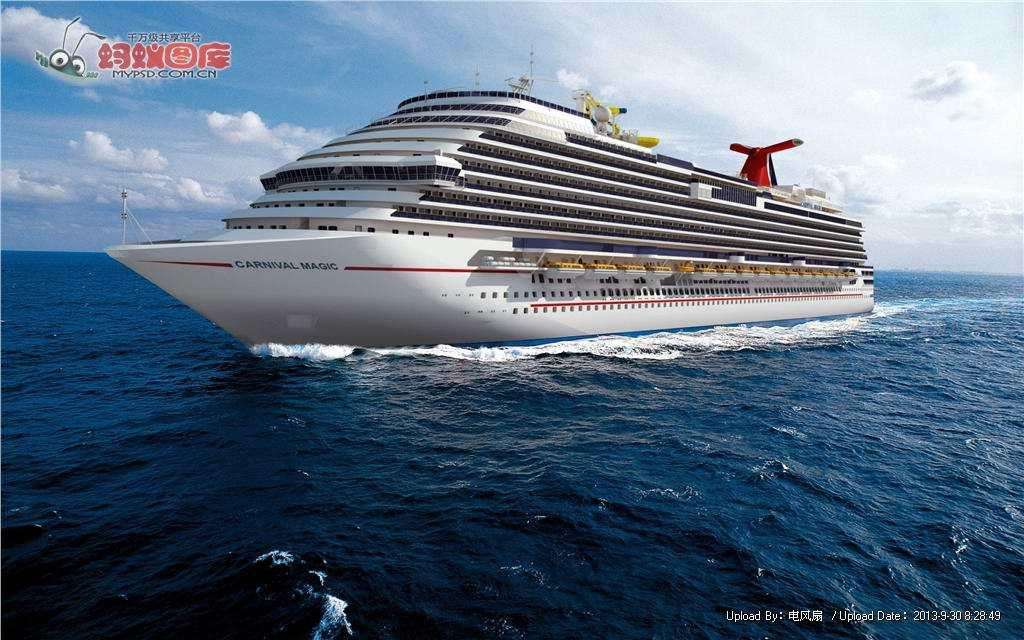youlun: (100, 62, 875, 362)
